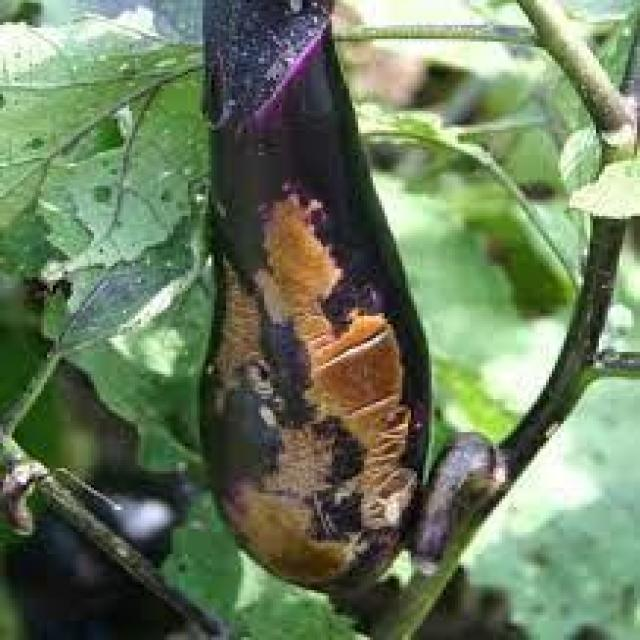eggplant: (198, 0, 431, 595)
